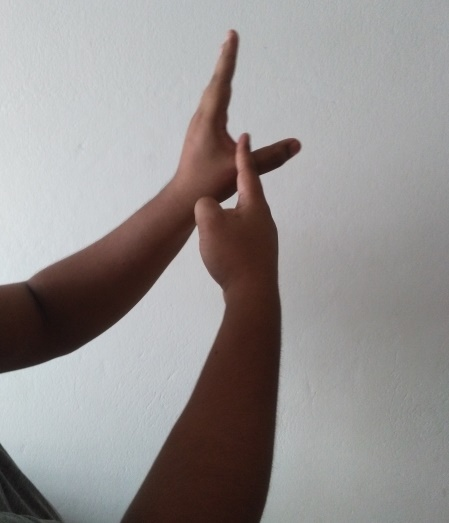dh: (169, 26, 302, 294)
